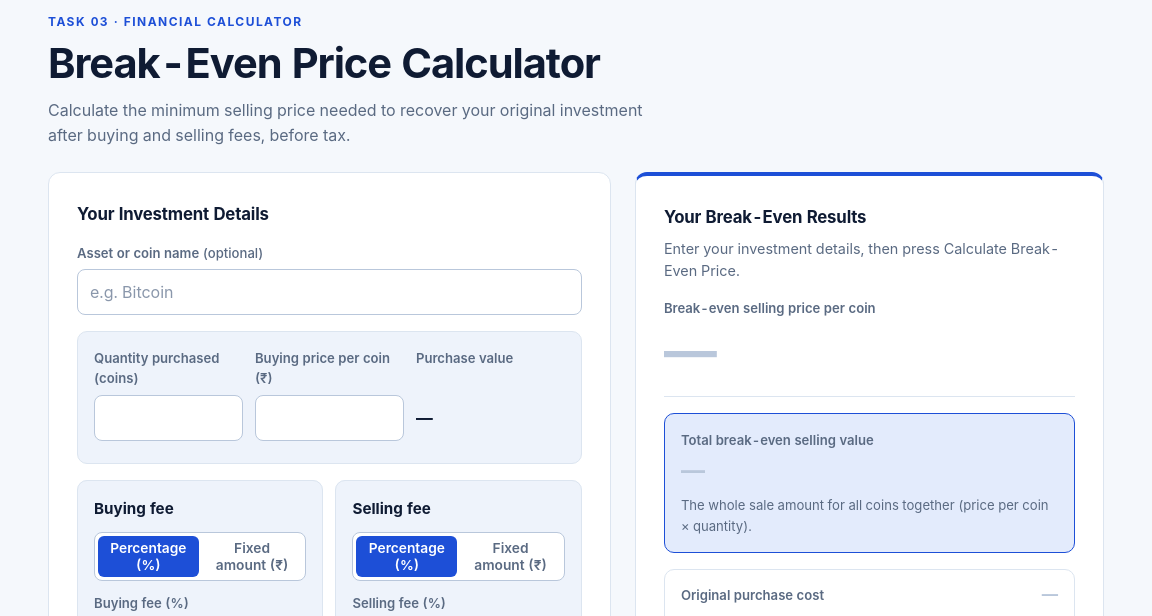
fee type selector › re-checks the typed fee against the new type
This screenshot has width=1152, height=616.
Click the 2nd radio button labelled "Fixed amount (₹)" at (511, 557), box [474,540,547,573]
(page scrolled)
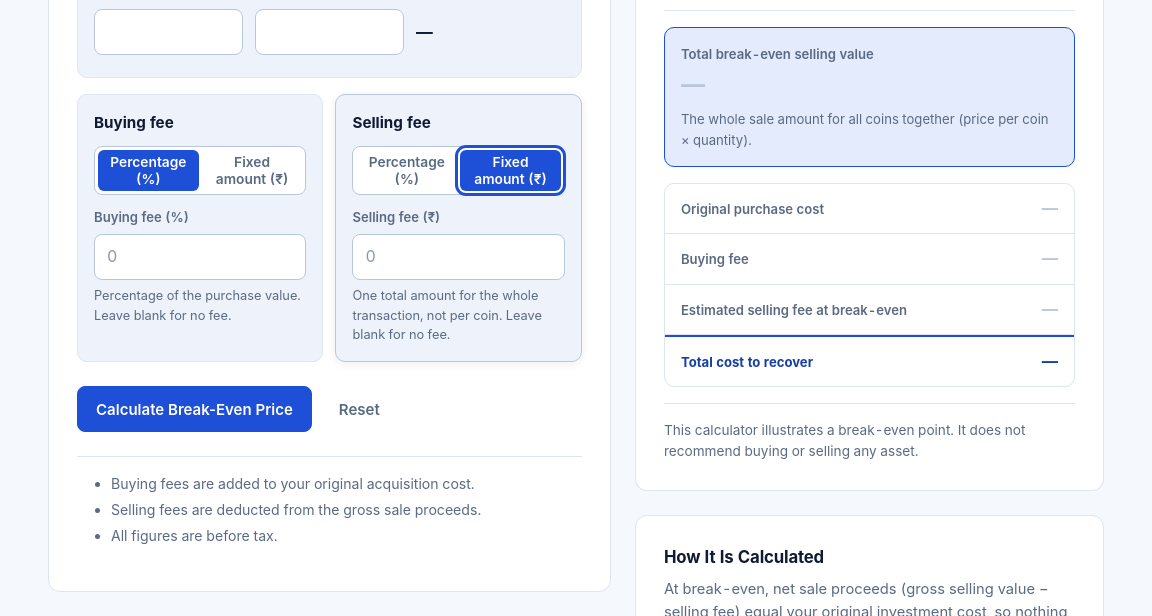
Type "100" into the field labelled "Selling fee (₹)" at (459, 257), box [352,234,565,280]
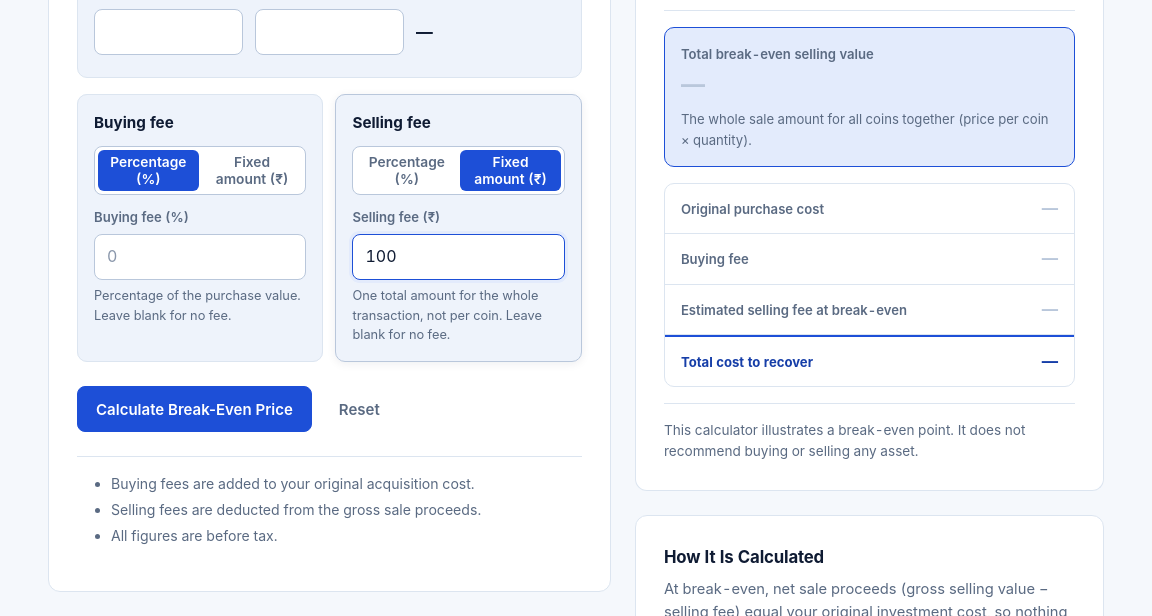
Expected: the text "must be below 100%" is not shown
Click the 2nd radio button labelled "Percentage (%)" at (407, 171), box [369,154,445,187]
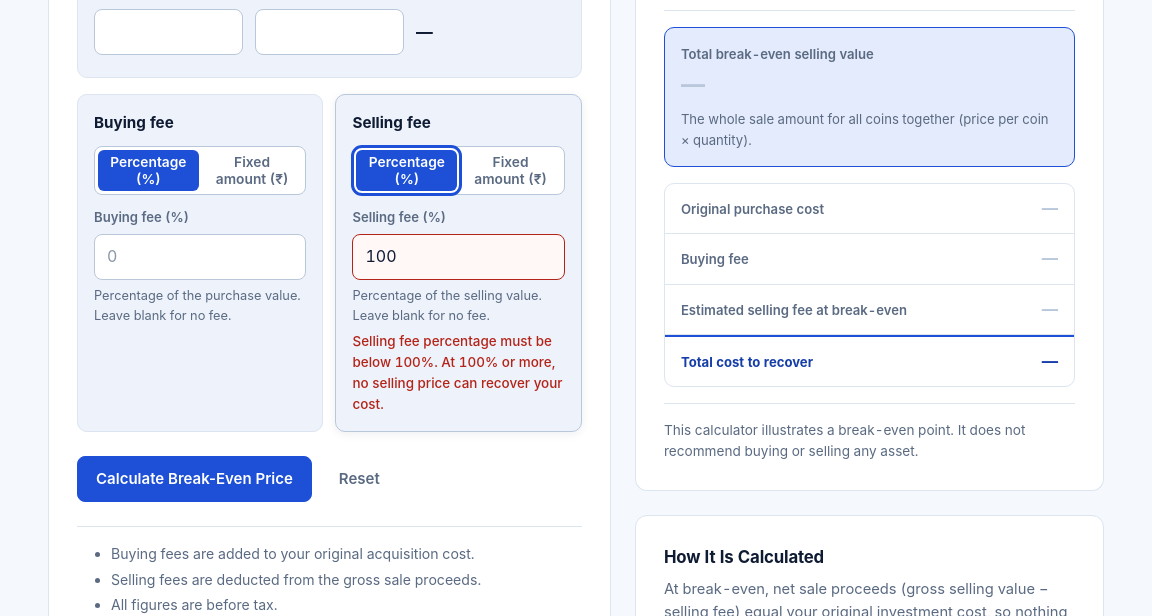
Now the text "must be below 100%" is shown, box [352,333,563,412]
